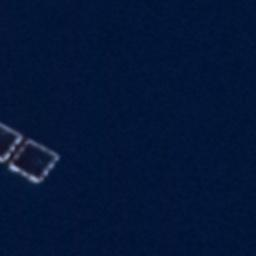square_solid: (5, 133, 66, 188), (1, 115, 25, 169)
